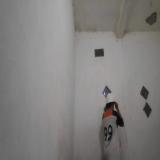Helmet: (105, 91, 117, 106)
